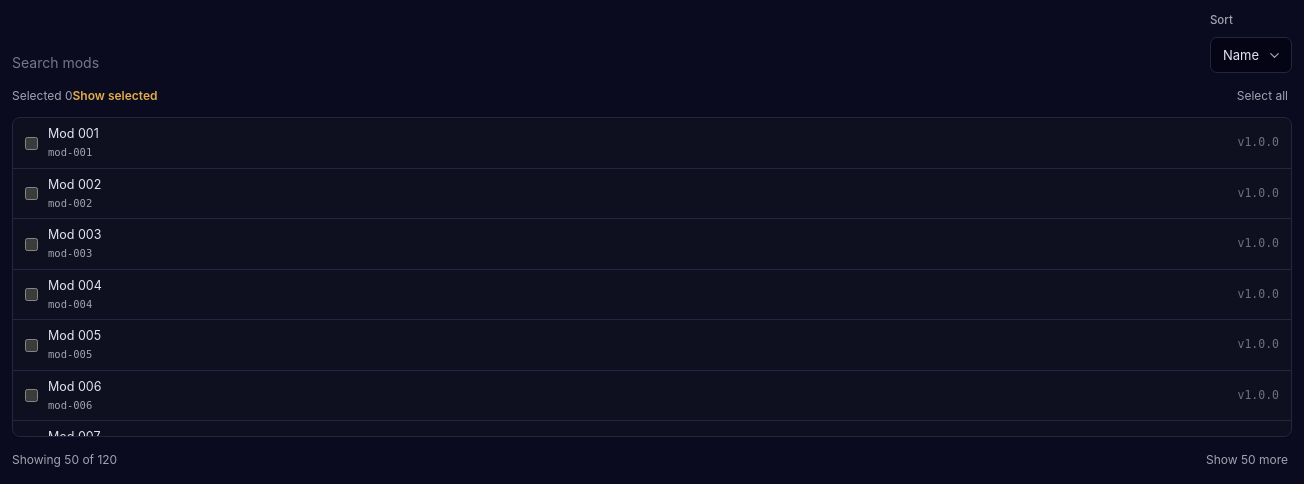
it: <ModMultiSelect> windowing › Select all selects every filtered mod, not just the visible page
Check: the text "Selected 0" is shown, box [12,88,73,103]
Click the button "Select all".
click(1262, 96)  # box [1233,85,1292,107]
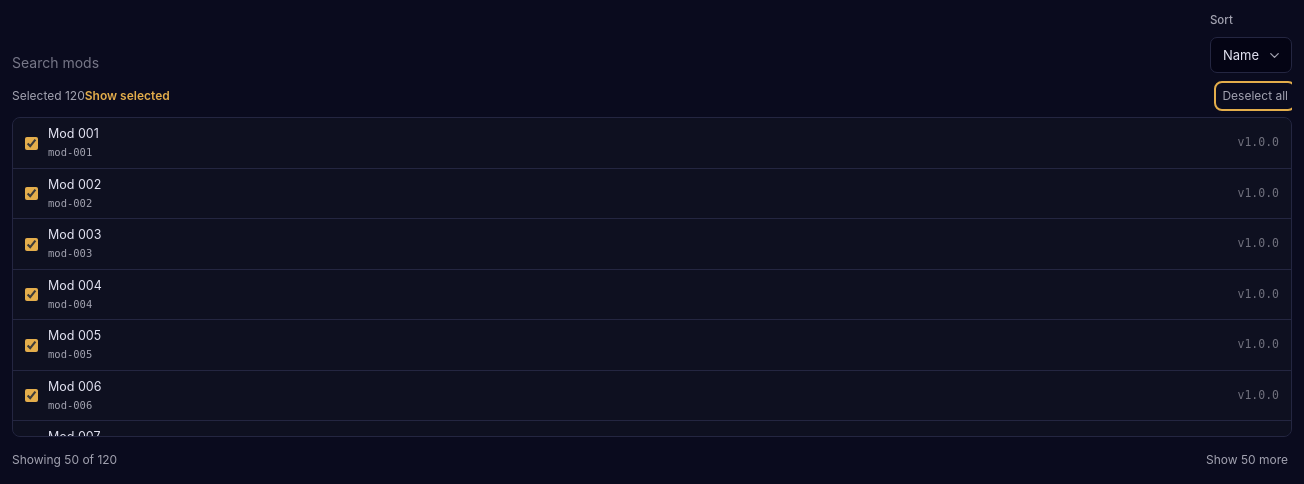
Check: the text "Selected 120" is shown, box [12,88,85,103]
